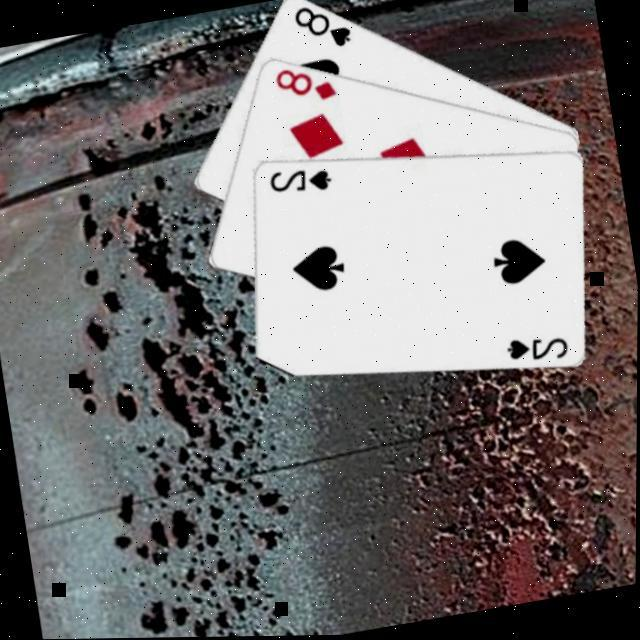2S: (502, 326, 574, 370), (265, 158, 337, 201)
8D: (270, 56, 342, 109)
8S: (290, 0, 357, 56)
